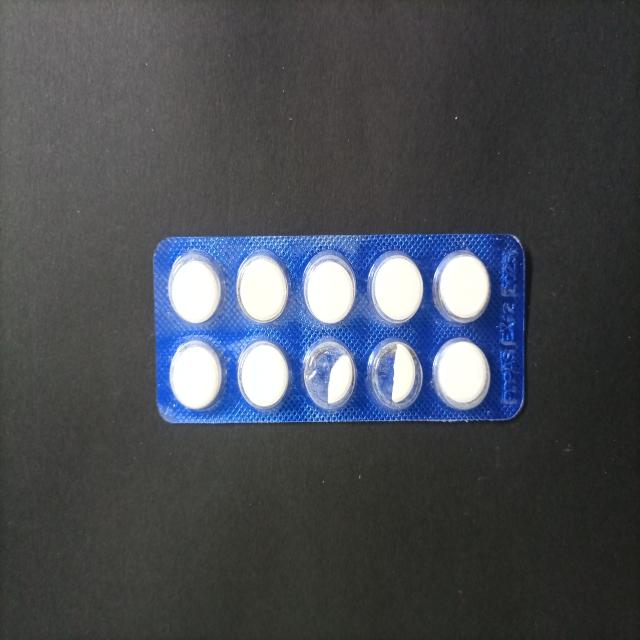defect: (365, 335, 425, 416), (300, 334, 358, 414)
